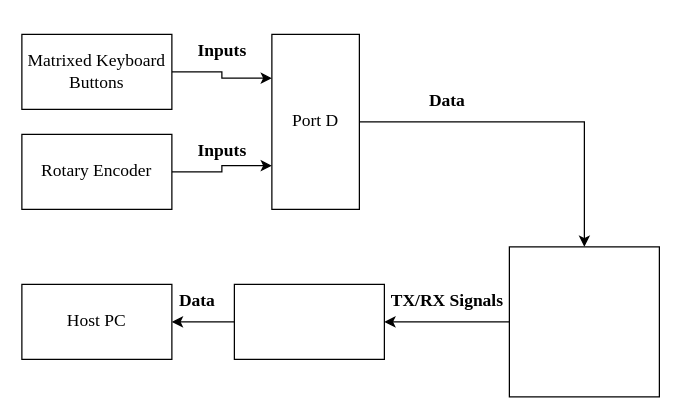
Some shapes in this 681 by 419 pixel diagram are drawn without their labels. The shapes that lost their labels are listed below. From the top down, each one's centre as x and y in pixels, then its label:
(308,321): FTDI Chip
(583,321): PIC18
